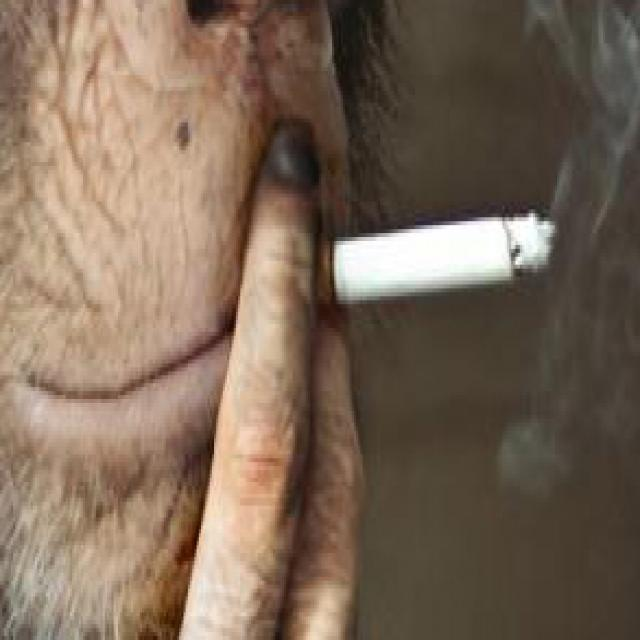smoking: (316, 210, 560, 316)
